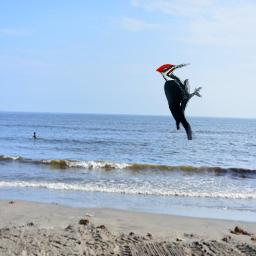Woodpecker: (156, 62, 202, 140)
